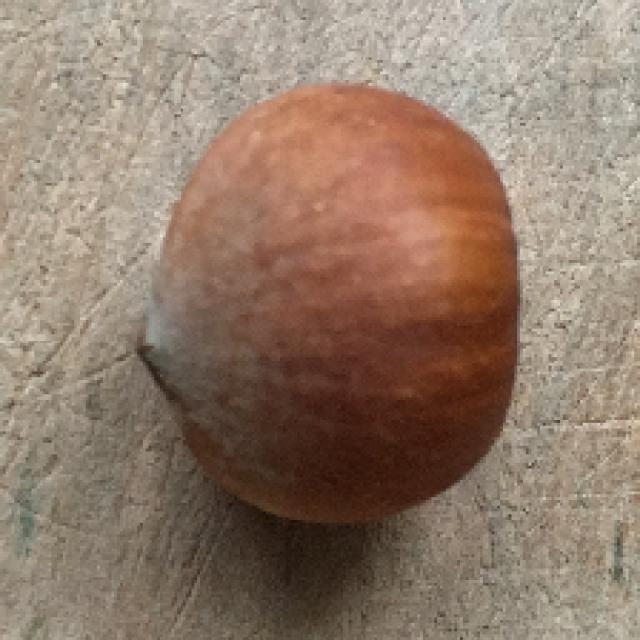qualityHazelnut: (140, 77, 524, 533)
